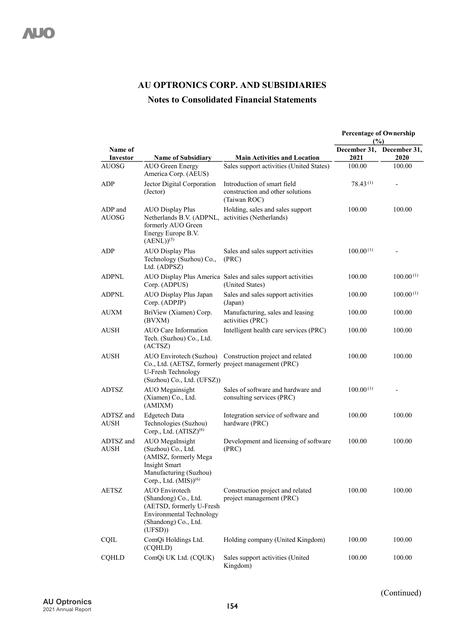box: (97, 128, 426, 571)
